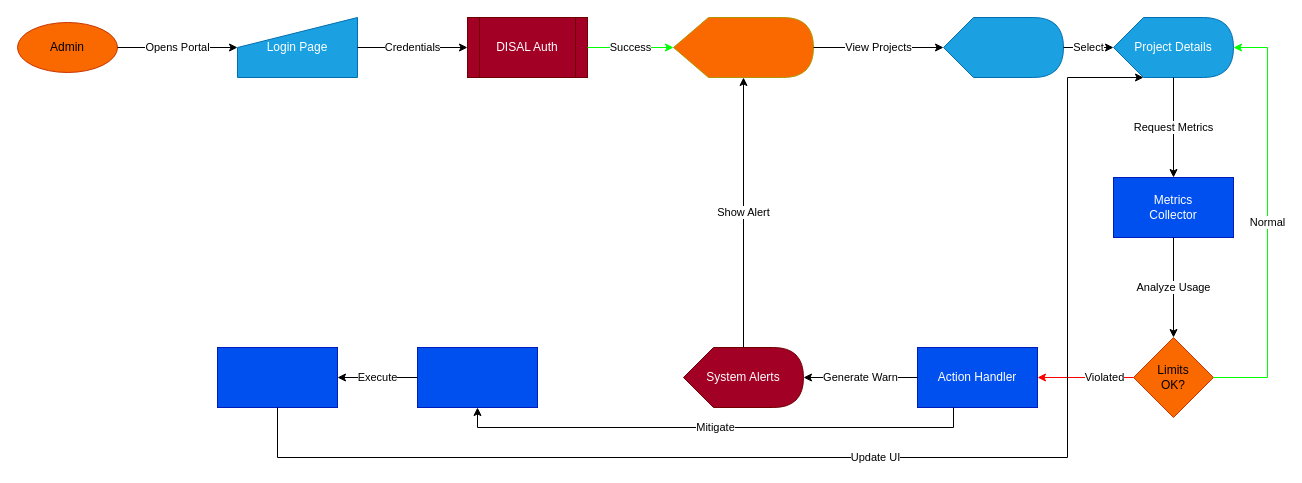
This 1302x483 diagram has some shape labels left out. Here are the shapes that lost their labels. From the top down, the centre of each, then its label:
At (x=743, y=47): "Admin Dashboard".
At (x=1003, y=47): "Project List".
At (x=277, y=377): "Runtime Manager".
At (x=477, y=377): "Orchestrator".
